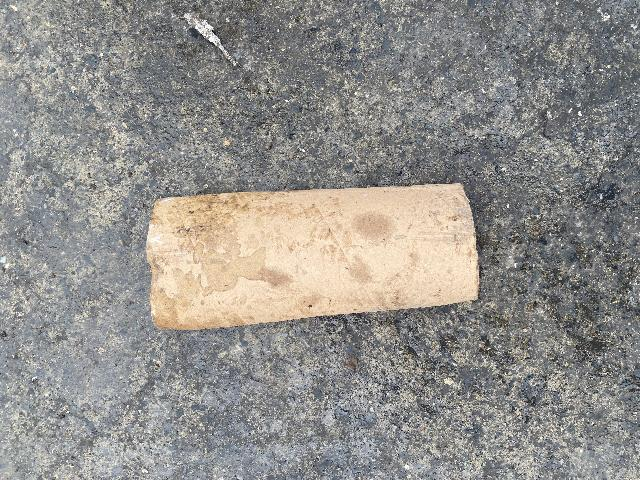Kagit: (142, 180, 479, 335)
